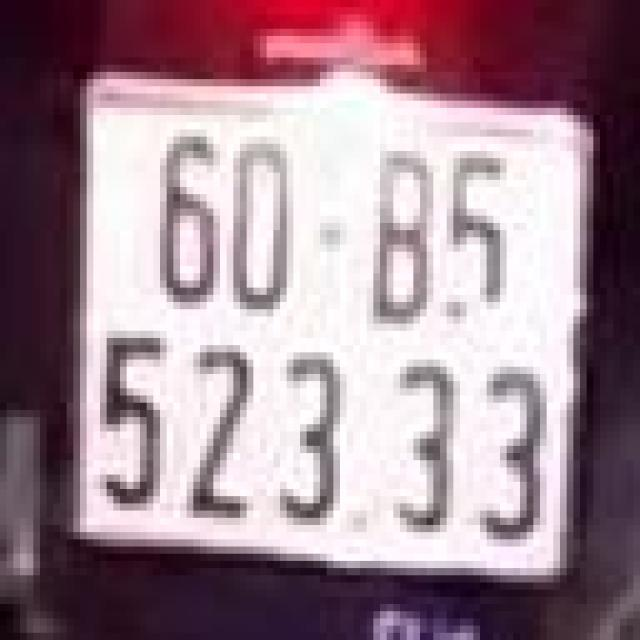0: (227, 130, 293, 316)
2: (183, 342, 257, 522)
3: (383, 356, 457, 536), (480, 363, 553, 543), (280, 345, 340, 532)
5: (100, 328, 173, 522), (443, 144, 510, 338)
6: (157, 130, 223, 310)
B: (367, 140, 433, 327)
